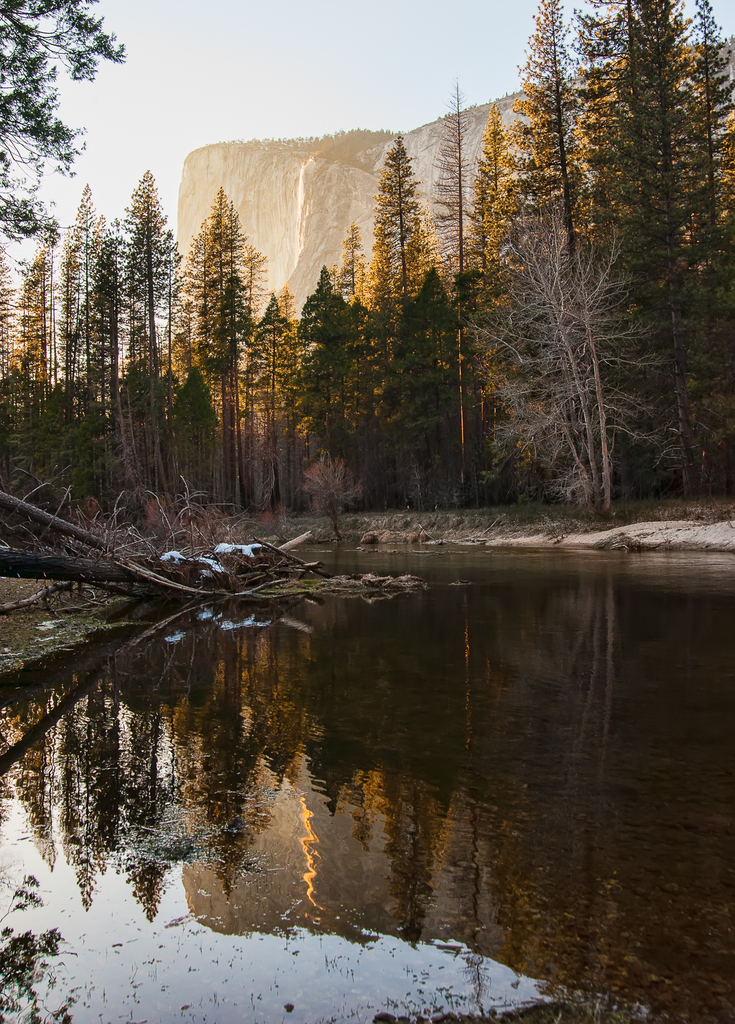Tree: (0, 124, 461, 518), (437, 11, 712, 522), (0, 0, 132, 231)
